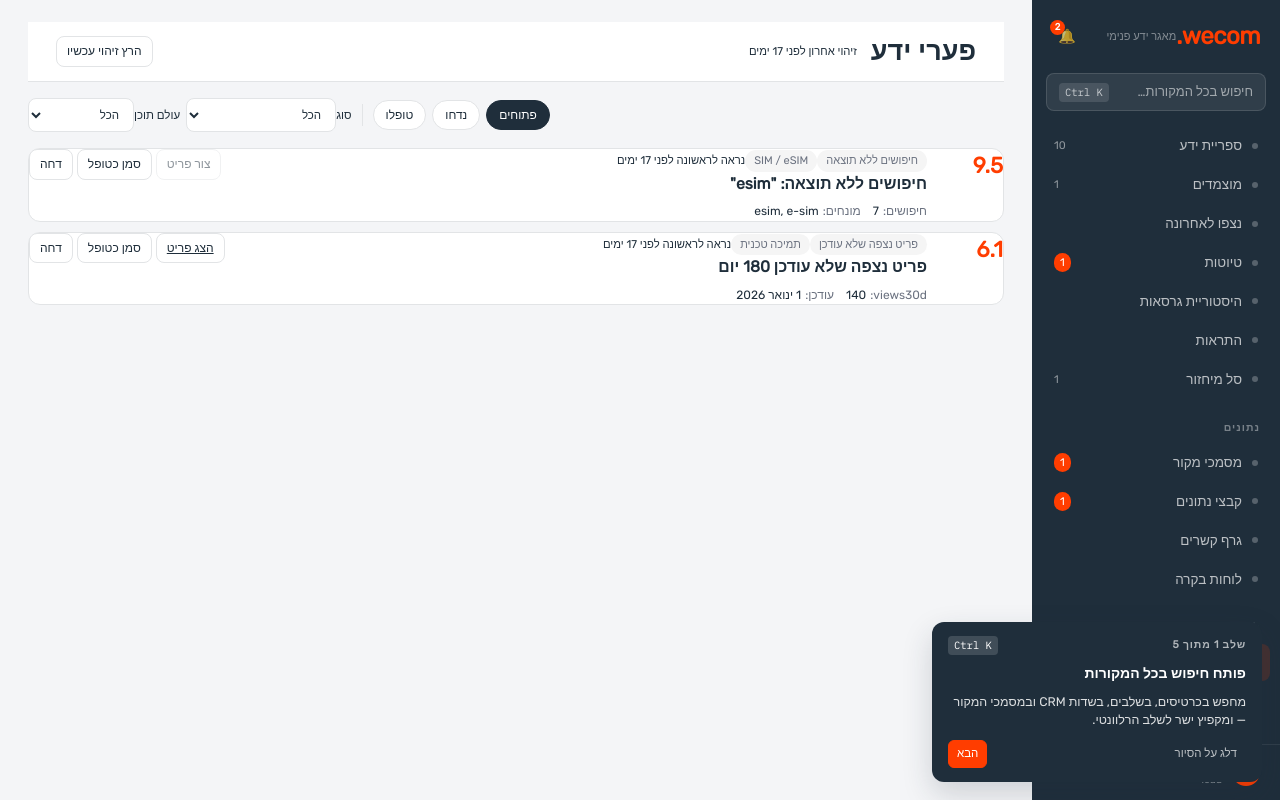
Test: /gaps › dismisses with a reason, resolves to a document, and runs detection
Click the button "דחה" in the row of "צור פריט" at [51, 164], box [29,149,73,180]
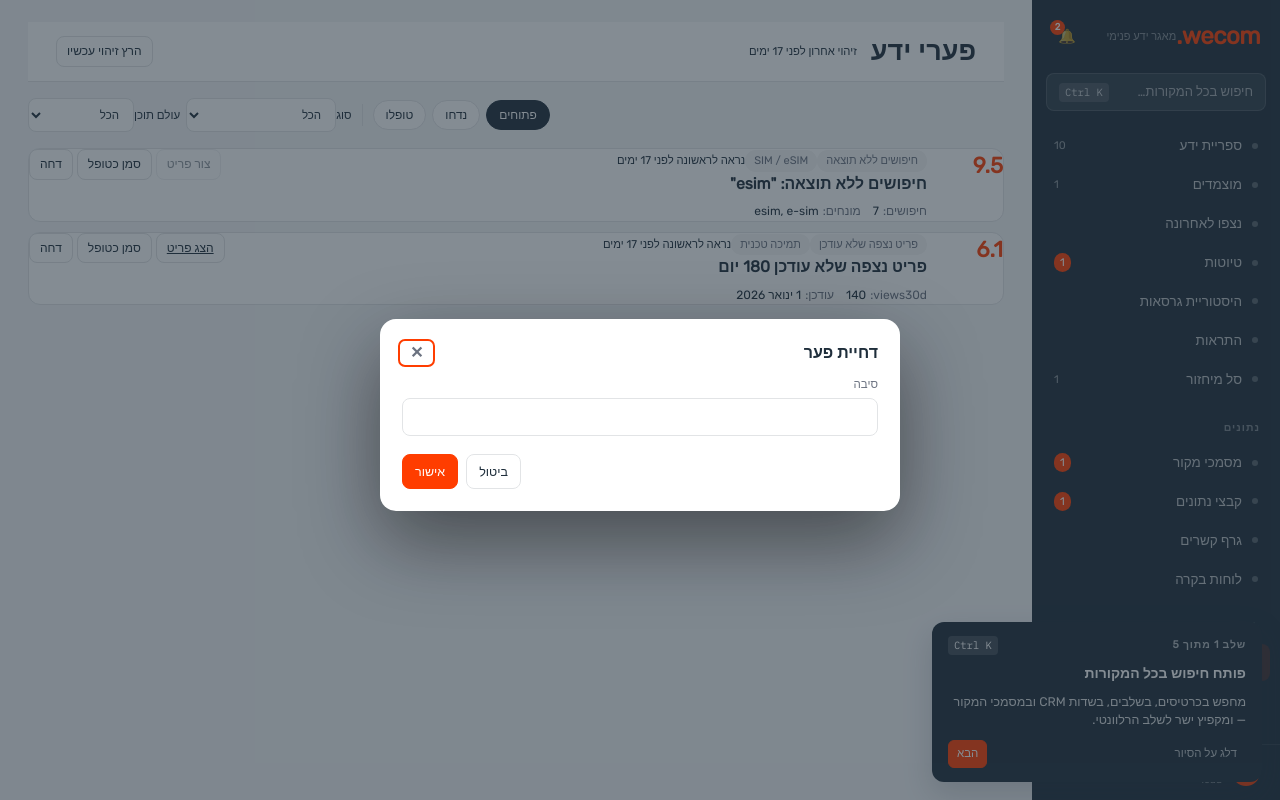
Type "כפילות של מונח קיים" into the field labelled "סיבה" at [640, 417], box [402,398,878,436]
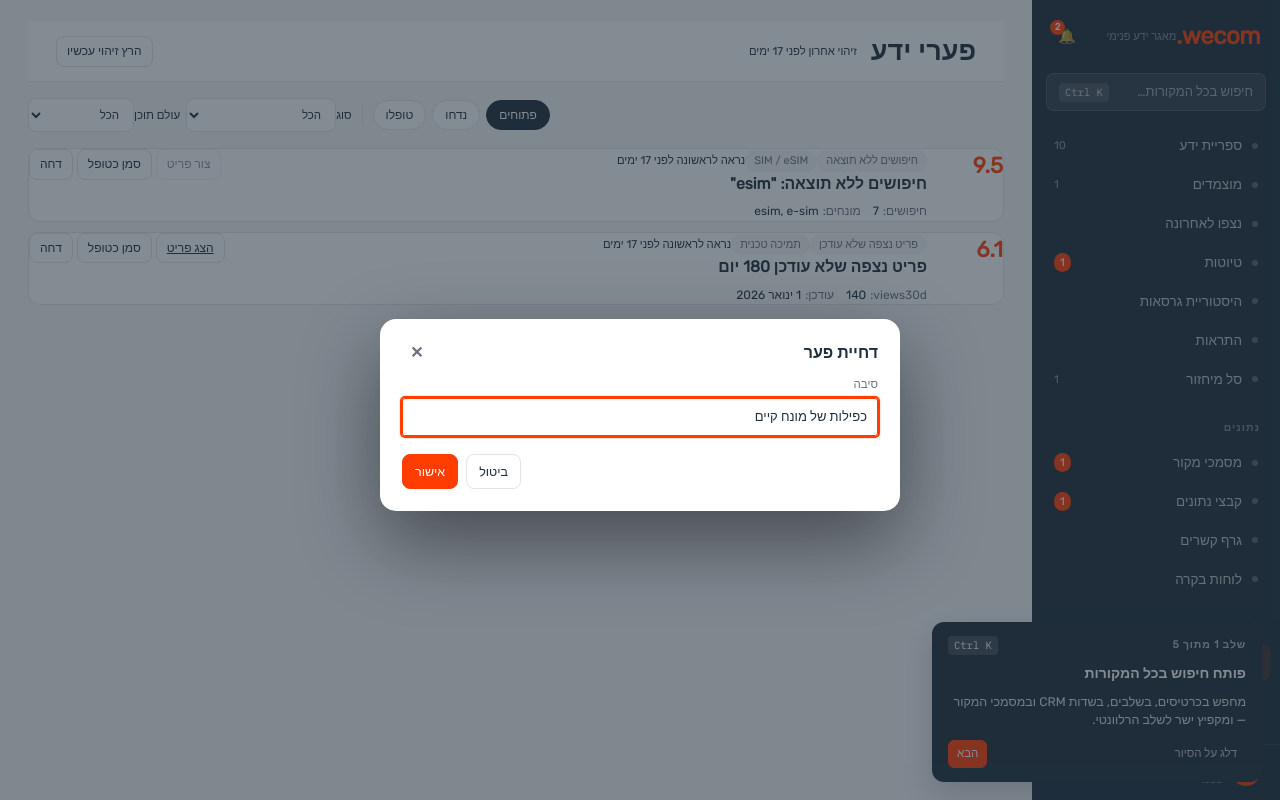
Click the button "אישור" at [430, 471], box [402,454,458,489]
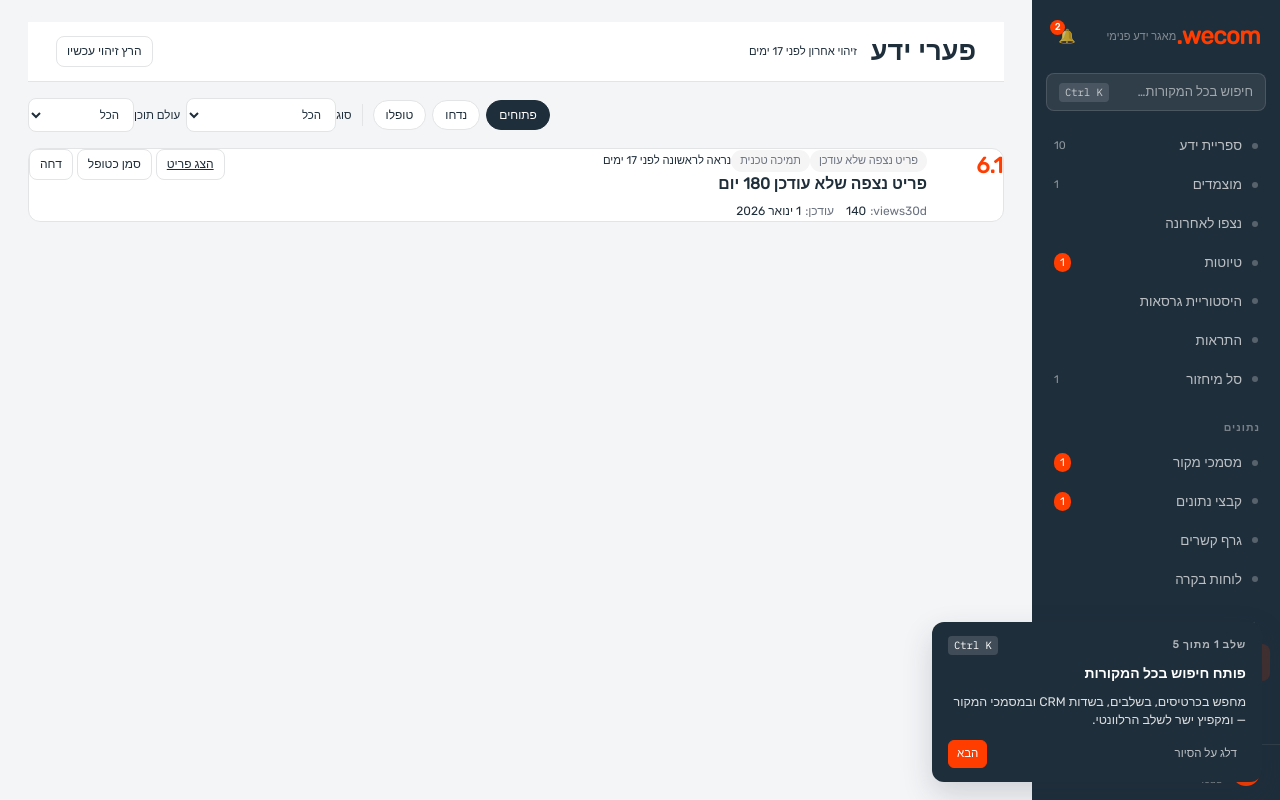
Click the button "הרץ זיהוי עכשיו" at [104, 52], box [56,36,153,67]
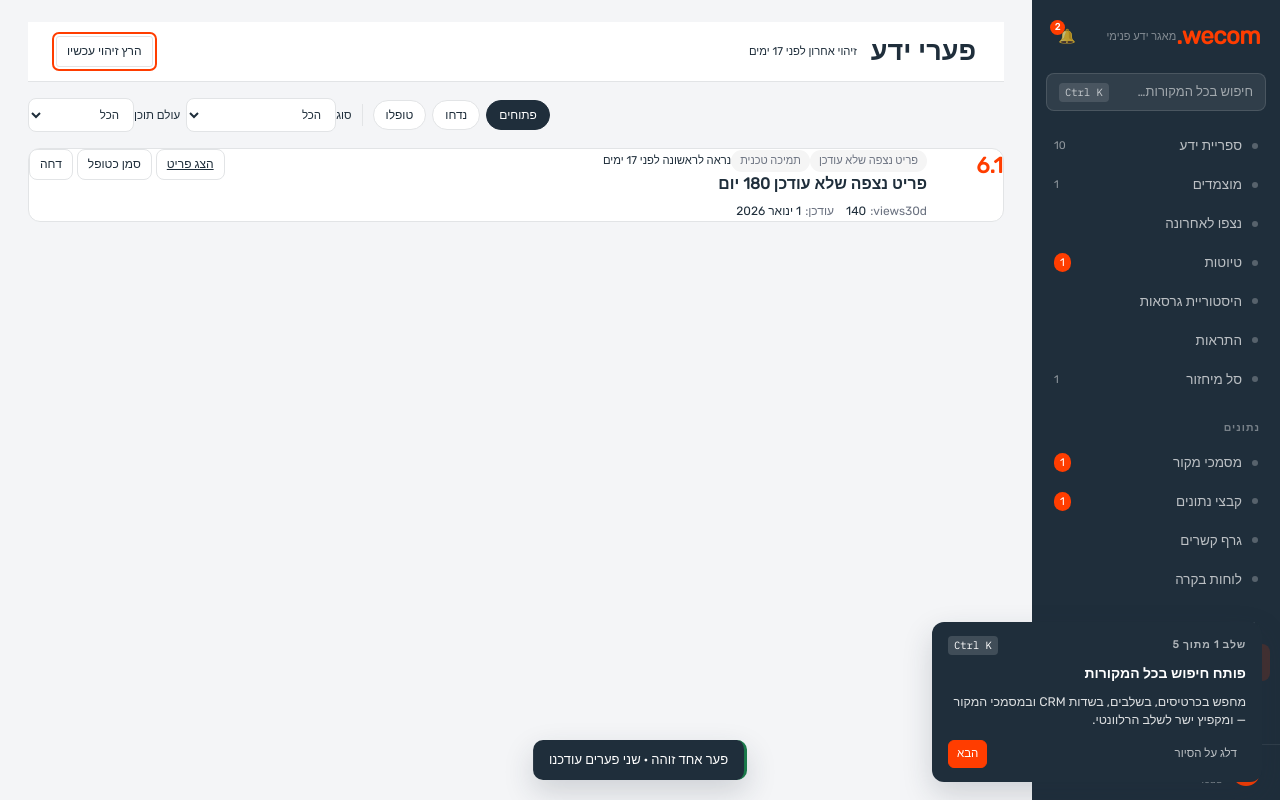
Expected: the text "פער אחד זוהה · שני פערים עודכנו" is shown, [549,750,728,770]
